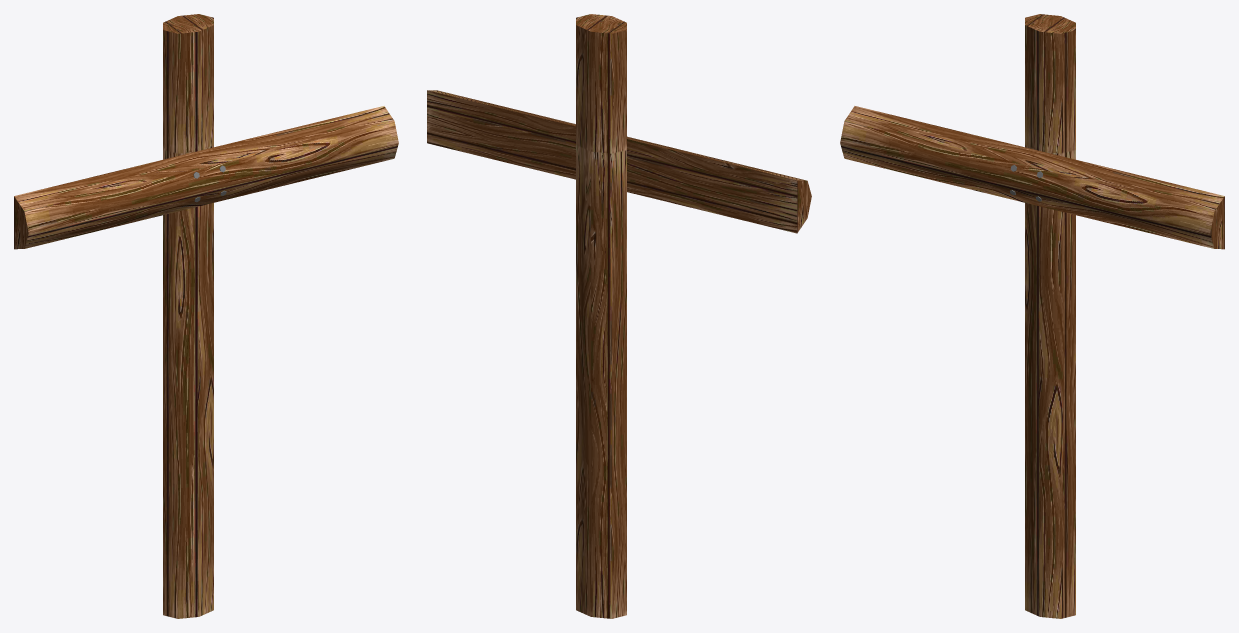
The model's file is Cross.fbx.
3 views of the same model, side by side, from view 1: azimuth 30°, elevation 25°; view 2: azimuth 150°, elevation 25°; view 3: azimuth 330°, elevation 25° (orthographic).
Parts seen in each view (by area): view 1: Cylinder, Cylinder.011; view 2: Cylinder, Cylinder.011; view 3: Cylinder, Cylinder.011.
Part boxes in pixels (bbox=[...]): Cylinder: bbox=[163, 14, 213, 618]; Cylinder.011: bbox=[14, 106, 398, 249]; Cylinder: bbox=[576, 14, 626, 618]; Cylinder.011: bbox=[427, 90, 811, 233]; Cylinder: bbox=[1025, 14, 1075, 618]; Cylinder.011: bbox=[840, 106, 1224, 249].
Size of the model in its own units: 174 by 263 by 29.32.
